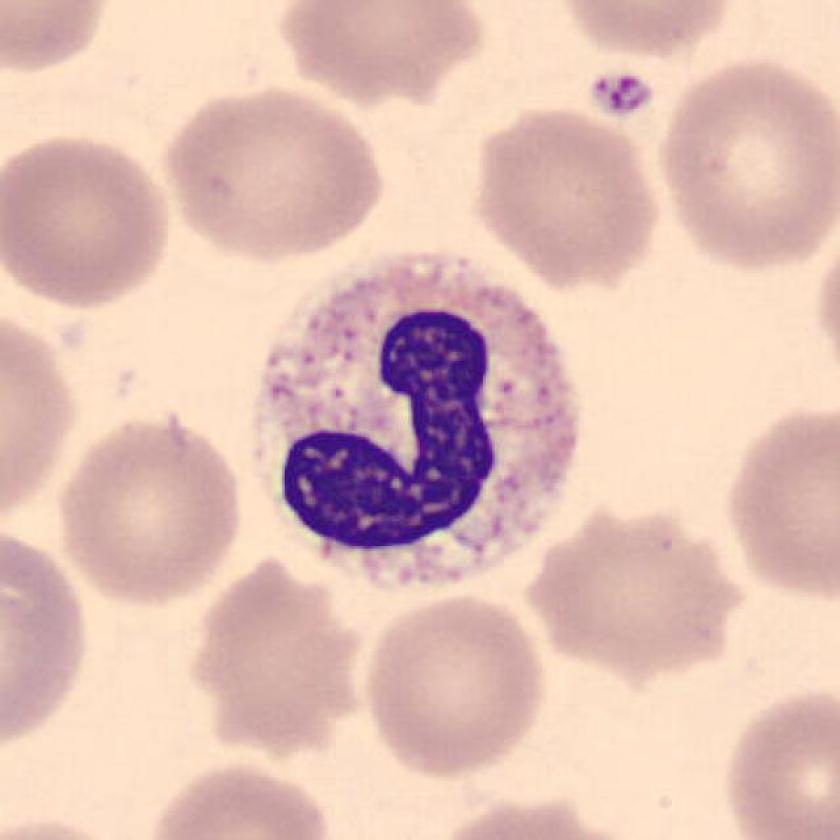neutrophil: (257, 252, 580, 584)
